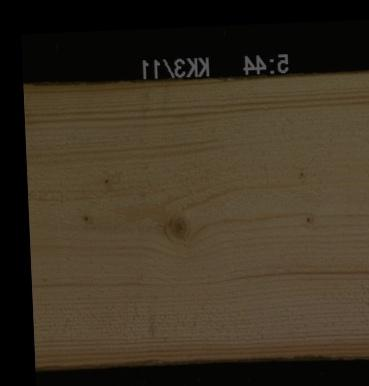small_knot: (304, 214, 312, 223), (297, 169, 305, 177), (103, 177, 108, 184)
sound_knot: (168, 214, 188, 242), (81, 209, 94, 224)
